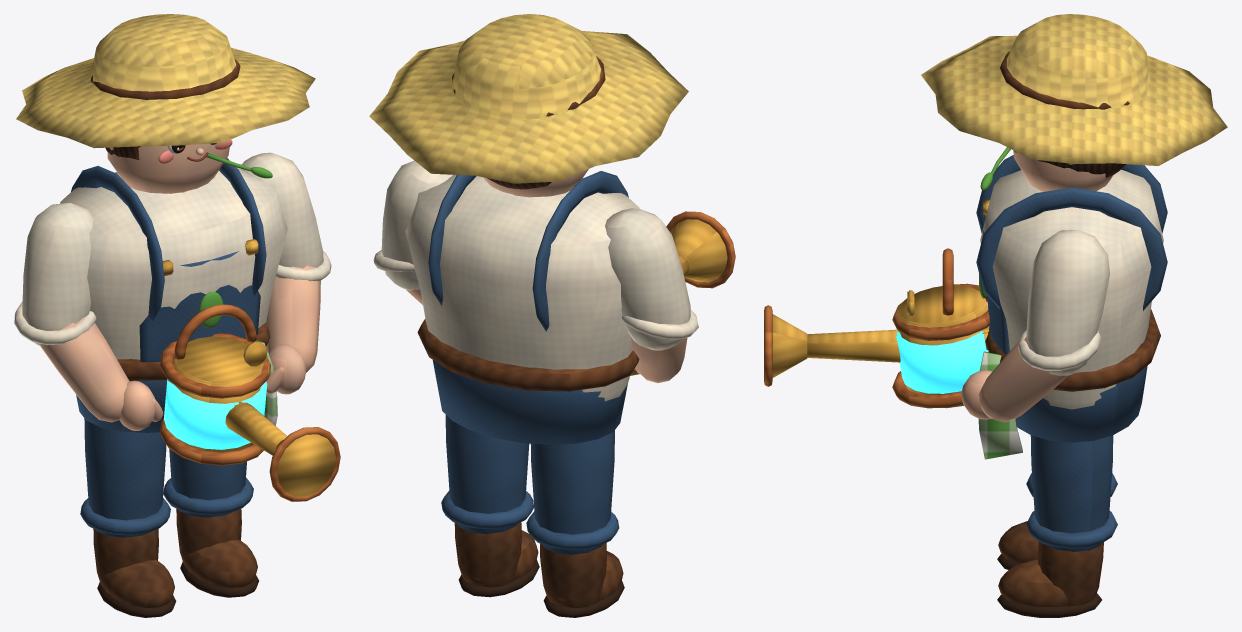
Rendered from char_seeker_botanist.glb.
3 views of the same model, side by side, from view 1: azimuth 30°, elevation 25°; view 2: azimuth 150°, elevation 25°; view 3: azimuth 270°, elevation 25° (orthographic). The views are drawn at different scales.
Parts seen in each view (by area): view 1: Torso, Head, Blaster, ArmR, LegR, ArmL, LegL; view 2: Torso, Head, LegR, LegL, ArmR, ArmL, Blaster; view 3: Head, Torso, Blaster, LegL, ArmL, LegR.
Part boxes in pixels (left/top/right/bottom): Torso: left=60, top=158, right=287, bottom=432; Head: left=16, top=14, right=315, bottom=193; Blaster: left=160, top=304, right=340, bottom=501; ArmR: left=14, top=203, right=163, bottom=430; LegR: left=80, top=418, right=176, bottom=617; ArmL: left=241, top=152, right=331, bottom=394; LegL: left=163, top=449, right=258, bottom=597; Torso: left=405, top=171, right=639, bottom=444; Head: left=369, top=14, right=688, bottom=196; LegR: left=526, top=430, right=624, bottom=617; LegL: left=441, top=414, right=539, bottom=597; ArmR: left=605, top=208, right=698, bottom=382; ArmL: left=373, top=160, right=452, bottom=304; Blaster: left=630, top=211, right=735, bottom=375; Head: left=921, top=14, right=1227, bottom=191; Torso: left=976, top=155, right=1167, bottom=459; Blaster: left=764, top=248, right=989, bottom=408; LegL: left=997, top=435, right=1117, bottom=617; ArmL: left=961, top=230, right=1109, bottom=422; LegR: left=997, top=473, right=1117, bottom=569.
Bounding box in the file's own units: 1.15 × 2 × 1.5.
Materials: 22 (10 with a texture image).
